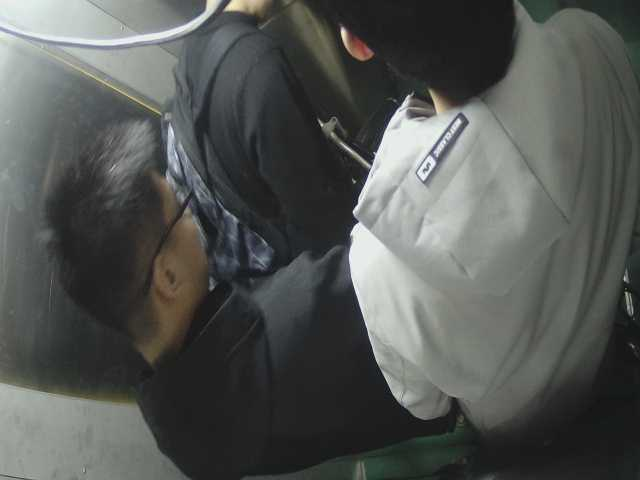bag: (148, 105, 285, 285)
bicycle: (307, 71, 391, 174)
person: (49, 135, 451, 470), (328, 4, 636, 441), (162, 1, 386, 264)
